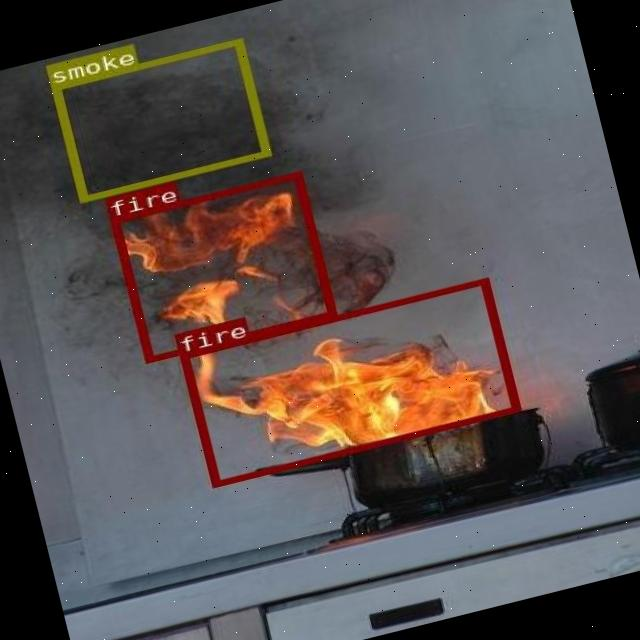fire: (176, 276, 520, 486), (108, 171, 334, 362)
smoke: (50, 37, 268, 201)
